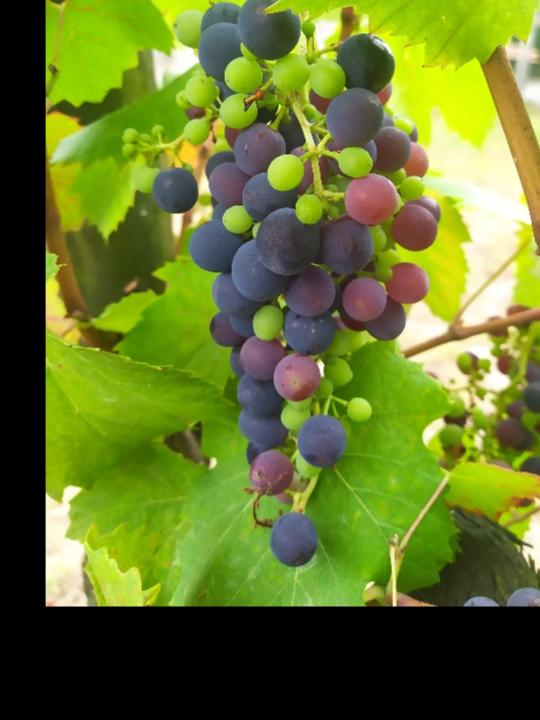grape: (122, 0, 442, 569)
